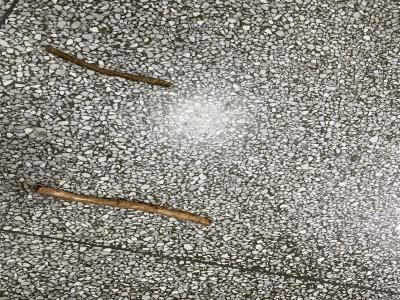Root: (36, 186, 212, 225), (46, 45, 172, 87)
